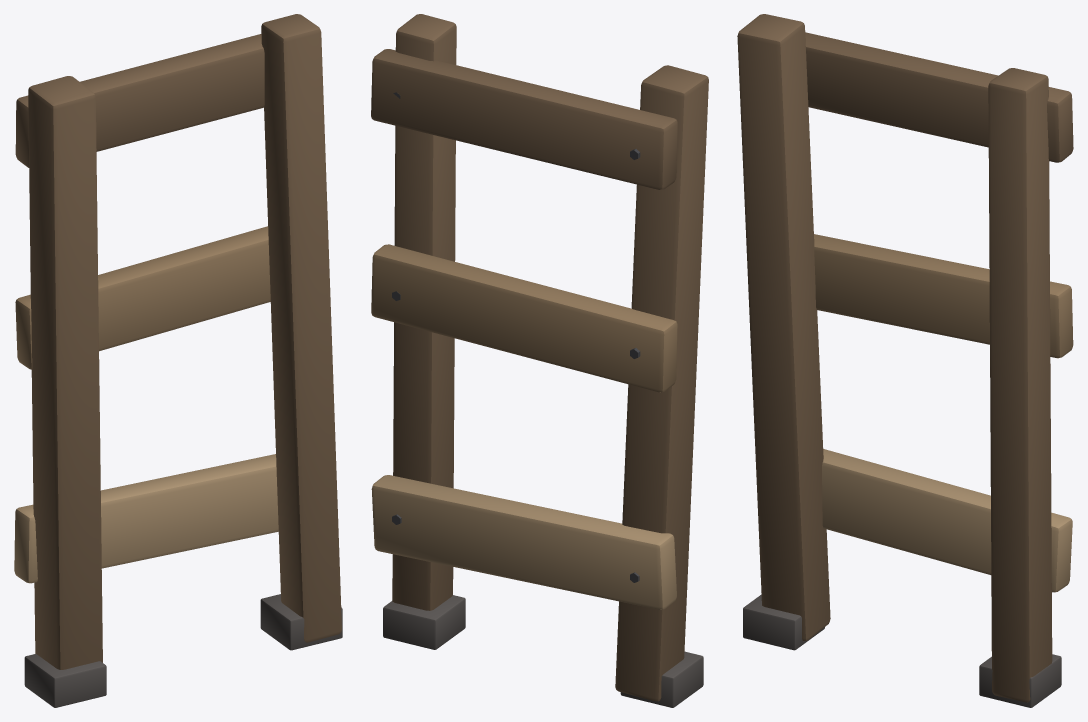
The model's file is wood_rail.glb.
3 renders of one model, left to right at view 1: azimuth 30°, elevation 25°; view 2: azimuth 150°, elevation 25°; view 3: azimuth 330°, elevation 25°, orthographic.
Parts seen in each view (by area): view 1: Part; view 2: Part; view 3: Part.
Part boxes in pixels (left/top/right/bottom): Part: left=14, top=14, right=342, bottom=707; Part: left=371, top=14, right=708, bottom=707; Part: left=737, top=14, right=1073, bottom=707.
Bounding box in the file's own units: 0.4992 × 0.9863 × 0.1364.
